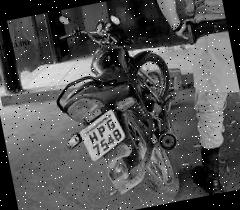placa_antiga: (79, 109, 126, 162)
